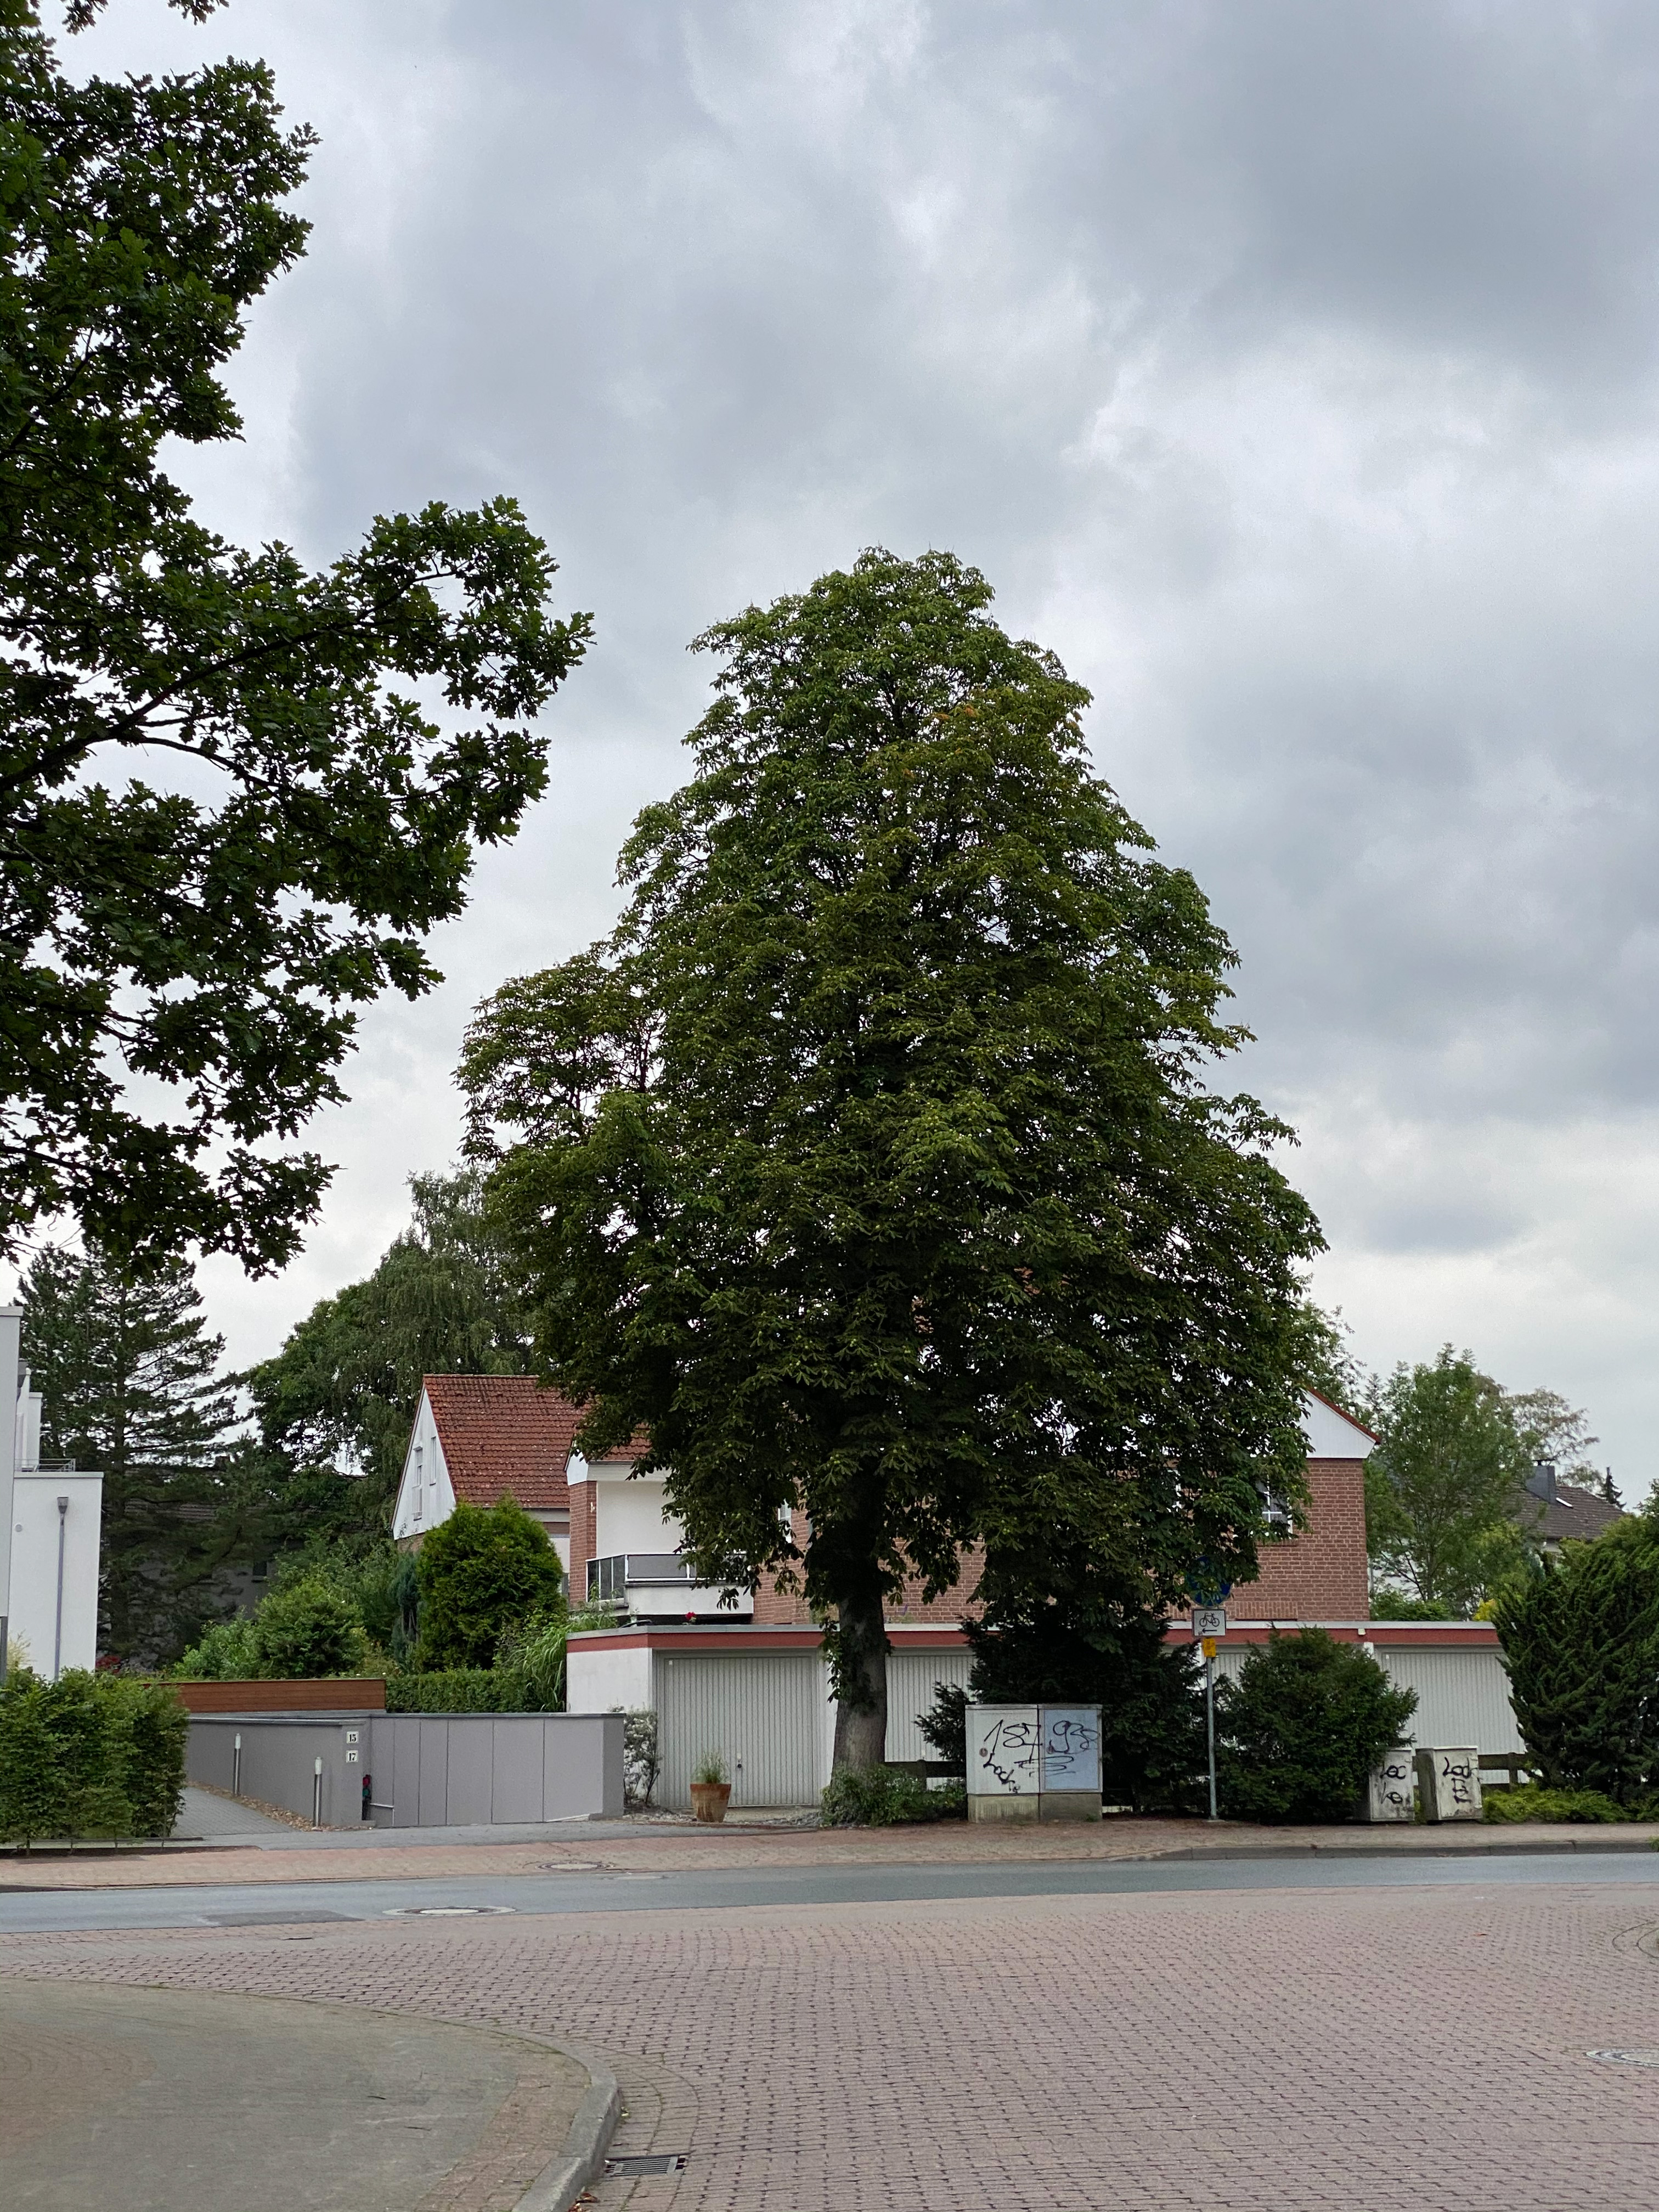tree: (450, 543, 1345, 1827), (0, 0, 599, 1284), (246, 1163, 528, 1536), (75, 1226, 253, 1663), (1363, 1345, 1551, 1604), (7, 1240, 113, 1472), (1495, 1385, 1600, 1493), (1286, 1298, 1368, 1409)
